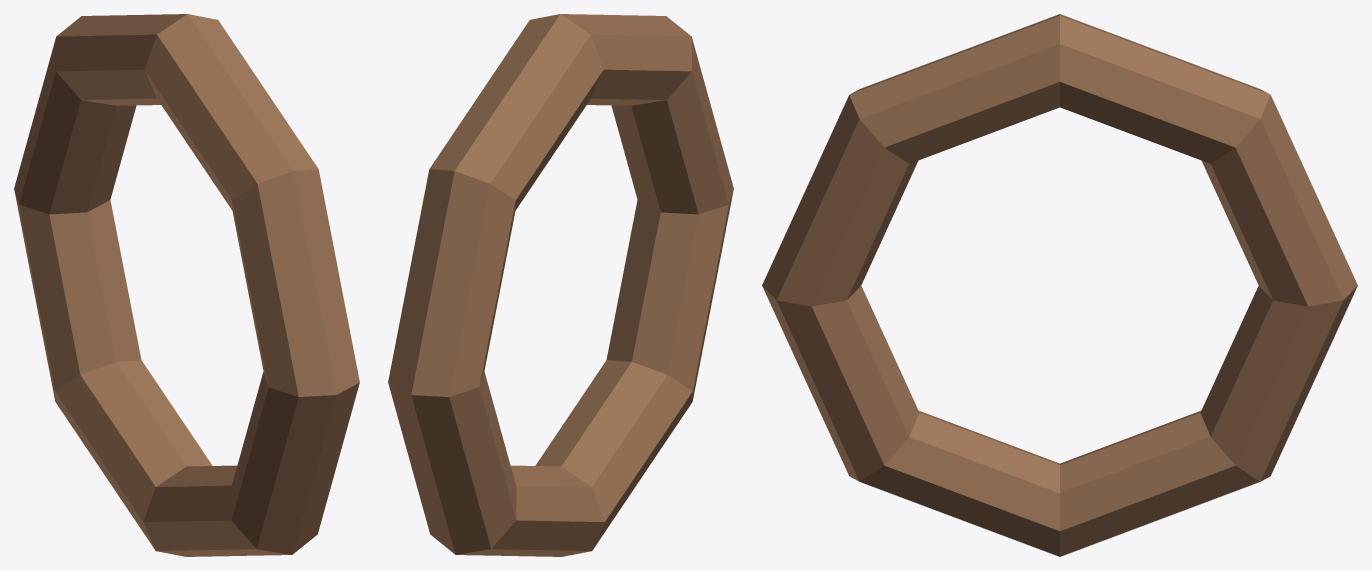
File: Ring_Attach_A.fbx
3 renders of one model, left to right at view 1: azimuth 30°, elevation 25°; view 2: azimuth 150°, elevation 25°; view 3: azimuth 270°, elevation 25°, orthographic.
Parts seen in each view (by area): view 1: Ring_Attach_A; view 2: Ring_Attach_A; view 3: Ring_Attach_A.
Boxes of the visible parts, x1,y1,x2,y2 form: Ring_Attach_A: (14, 14, 359, 556); Ring_Attach_A: (388, 14, 733, 556); Ring_Attach_A: (762, 14, 1357, 556).
Size of the model in its own units: 3.77 by 22.31 by 22.31.
